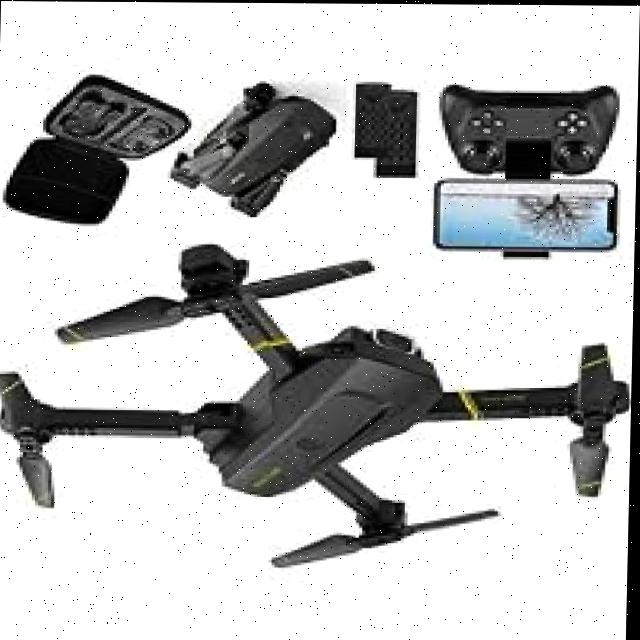drone: (0, 239, 636, 585)
